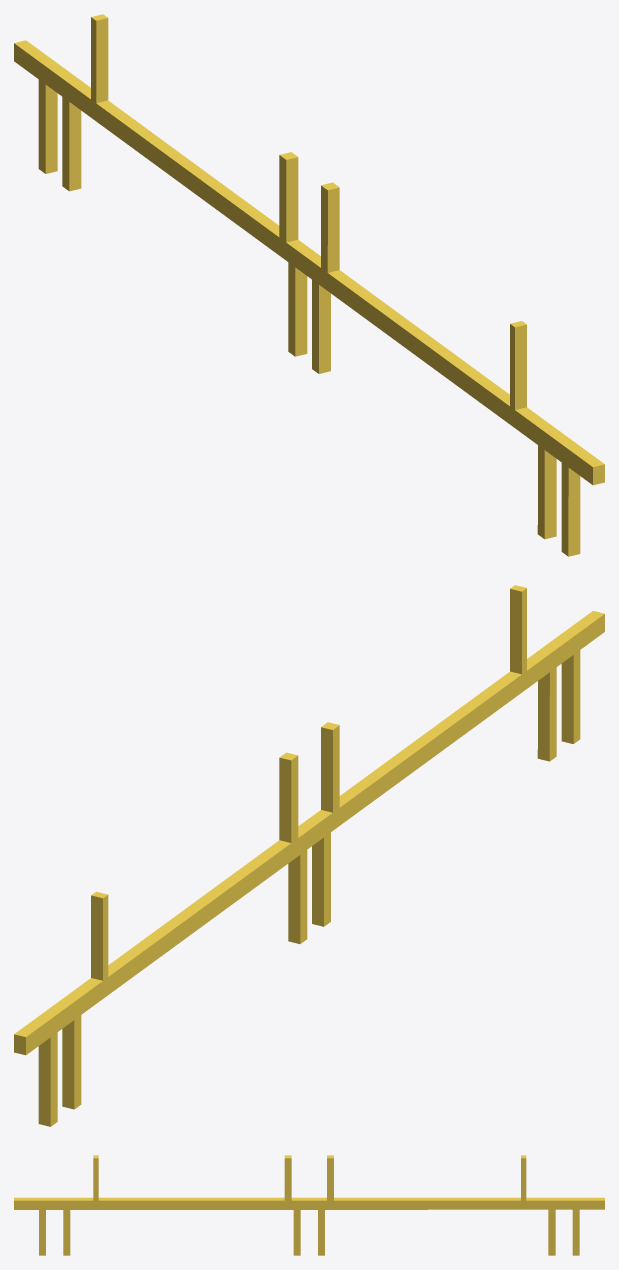
The model's file is greenlaser holder.glb.
The picture shows the model from 3 angles, top to bottom: view 1: azimuth 30°, elevation 25°; view 2: azimuth 150°, elevation 25°; view 3: azimuth 270°, elevation 25°; orthographic projection. The views are drawn at different scales.
Visible parts, largest first — view 1: green laser holder; view 2: green laser holder; view 3: green laser holder.
Part boxes in pixels (<box>): green laser holder: <box>14,14,604,556</box>; green laser holder: <box>14,585,604,1126</box>; green laser holder: <box>14,1155,604,1255</box>.
Bounding box in the file's own units: 0.0722 × 1.09 × 6.04.
